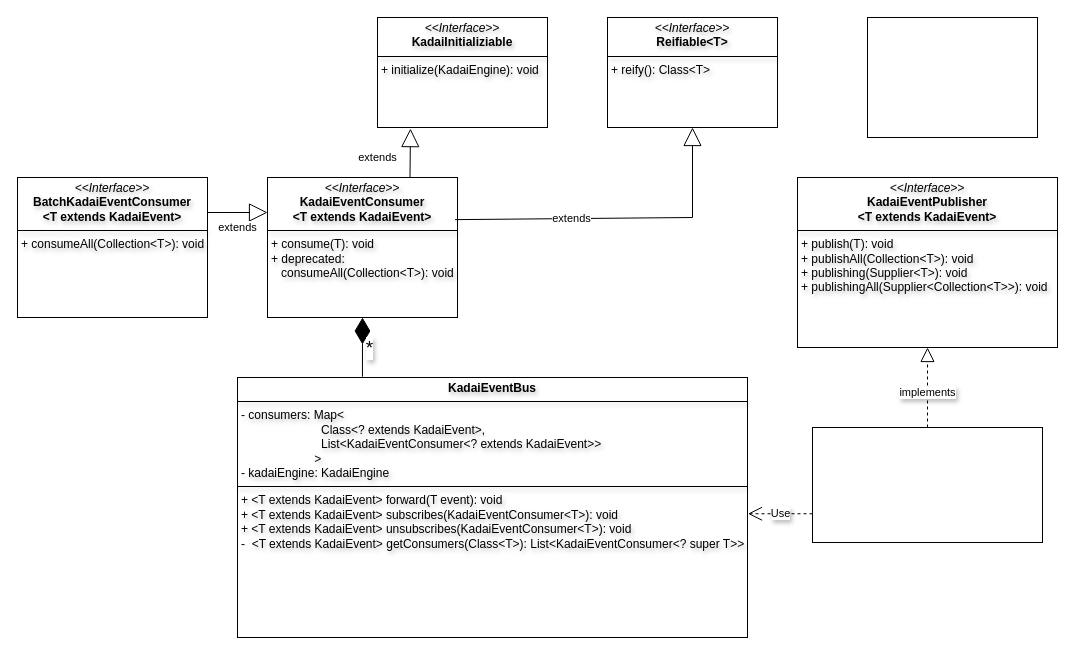
This 1075x655 diagram has some shape labels left out. Here are the shapes that lost their labels. From the top down, the box of each, then its label:
(866, 16, 1038, 138): <<Interface>> KadaiEvent + getCreated(): Instant + setCreated(): Instant
(812, 426, 1042, 542): SimpleKadaiEventPublisher <T extends KadaiEvent> - kadaiEventBus: KadaiEventBus
